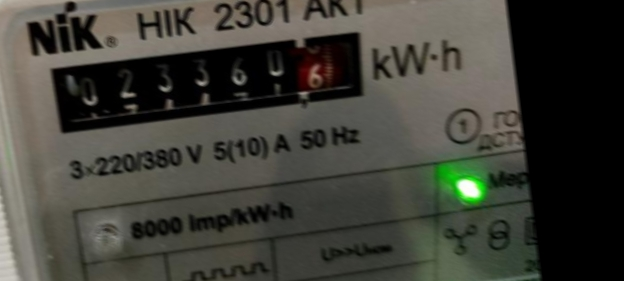0: (75, 71, 100, 106), (264, 44, 285, 77)
2: (113, 63, 140, 100)
3: (150, 59, 175, 93), (189, 53, 212, 86)
6: (225, 52, 249, 86), (301, 57, 326, 88)
screen: (30, 10, 382, 149)
